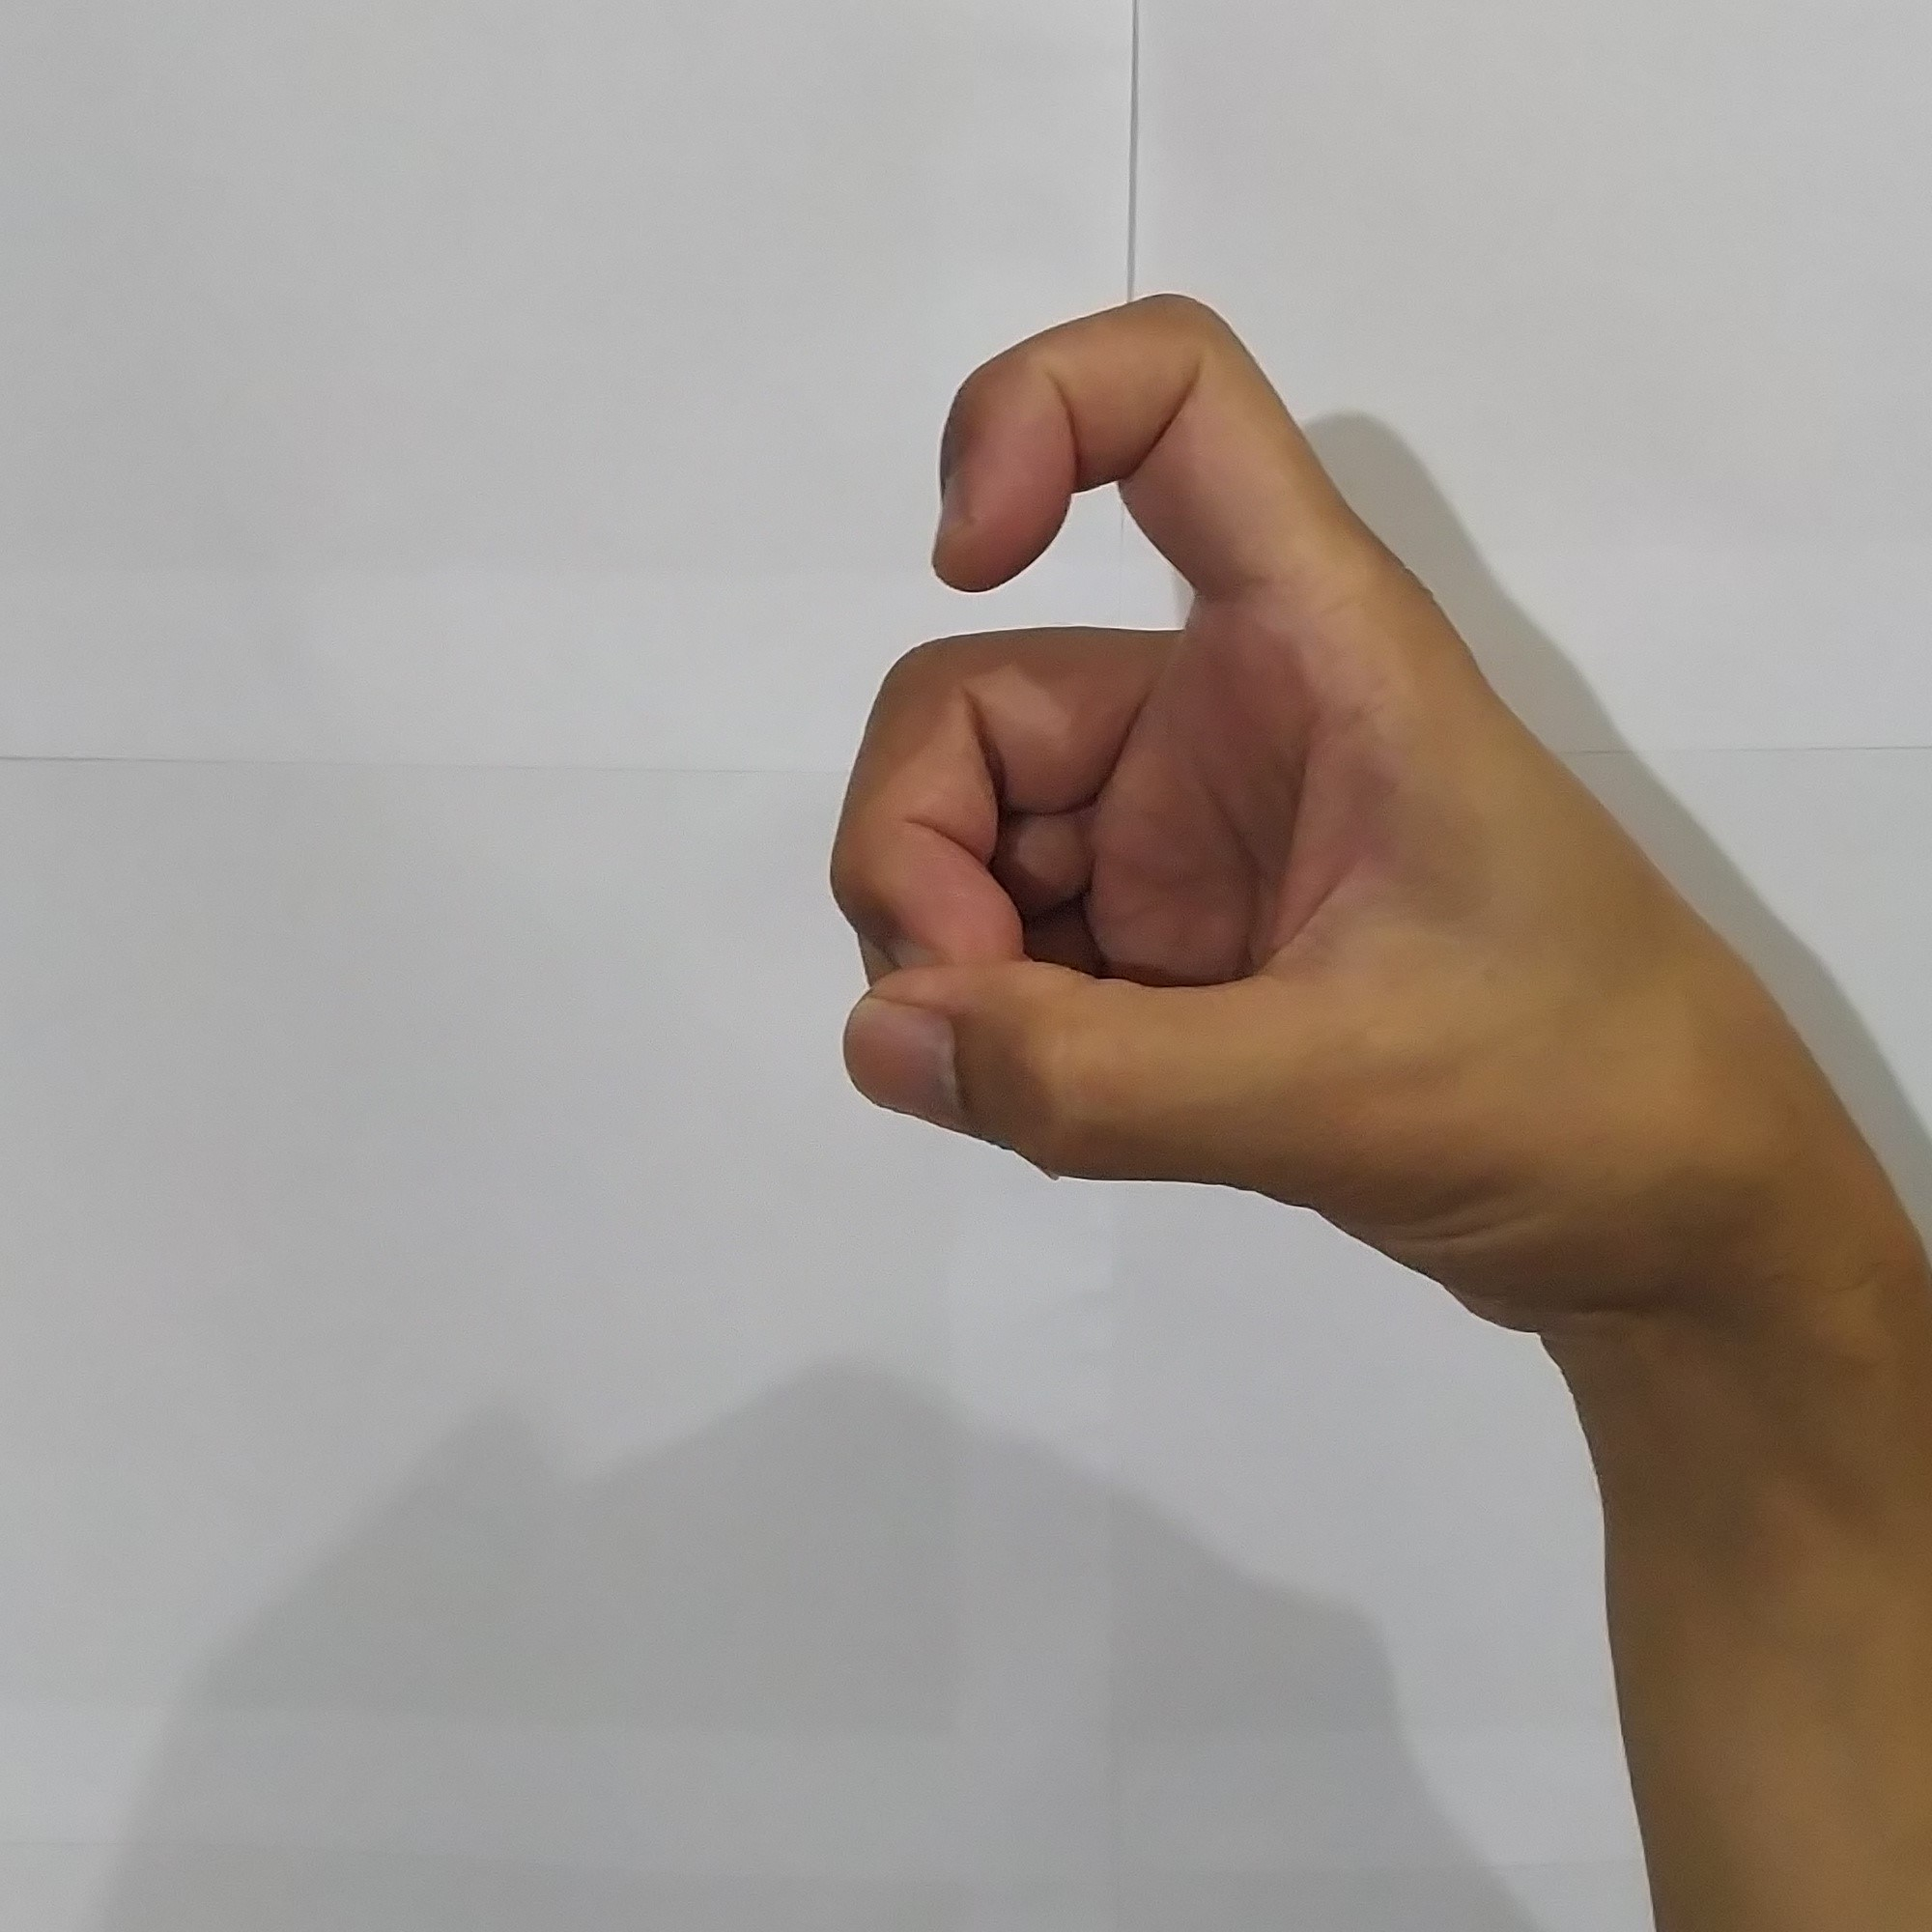X: (780, 267, 1794, 1330)
